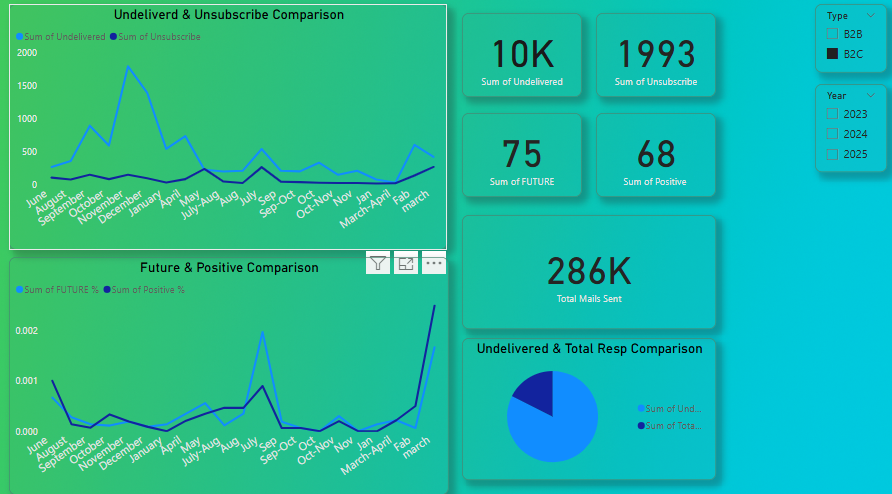

The dashboard page shown, as its layout file describes it:
{"tool":"powerbi","page":{"name":"Comparisons","canvas":[1280,720],"ordinal":3},"visuals":[{"type":"slicer","fields":{"Values":["DATA.Year"]},"box":[1165,123.3,103.5,126.1],"z":0},{"type":"slicer","fields":{"Values":["DATA.Type"]},"box":[1165,8.5,103.5,97.8],"z":1000},{"type":"lineChart","title":"Undeliverd & Unsubscribe Comparison","fields":{"Category":["DATA.Month-Campaign"],"Y":["Sum(DATA.Undelivered)","Sum(DATA.Unsubscribe)"]},"box":[14.2,8.5,626.5,351.5],"z":2000},{"type":"lineChart","title":"Future & Positive Comparison","fields":{"Category":["DATA.Month-Campaign"],"Y":["Sum(DATA.FUTURE %)","Sum(DATA.Positive %)"]},"box":[14.2,369.9,627.9,340.2],"z":3000},{"type":"card","fields":{"Values":["Sum(DATA.Total Mail Sent)"]},"box":[661.9,310.4,362.8,163],"z":4000},{"type":"pieChart","title":"Undelivered & Total Resp Comparison","fields":{"Y":["Sum(DATA.Undelivered)","Sum(DATA.Total Resp)"]},"box":[661.9,486.1,362.8,202.7],"z":5000},{"type":"card","fields":{"Values":["Sum(DATA.FUTURE)"]},"box":[661.9,164.4,171.5,120.5],"z":6000},{"type":"card","fields":{"Values":["Sum(DATA.Positive )"]},"box":[853.2,164.4,171.5,120.5],"z":7000},{"type":"card","fields":{"Values":["Sum(DATA.Undelivered)"]},"box":[661.9,21.3,171.5,120.5],"z":8000},{"type":"card","fields":{"Values":["Sum(DATA.Unsubscribe)"]},"box":[853.2,21.3,171.5,120.5],"z":9000}]}

Visuals, with their boxes in screenshot pixels (x1, y1, x2, y2), scaled from the page's 1280x720 canvas onto the 892x494 screenshot:
slicer - DATA.Year: <bbox>812, 85, 884, 171</bbox>
slicer - DATA.Type: <bbox>812, 6, 884, 73</bbox>
"Undeliverd & Unsubscribe Comparison" lineChart: <bbox>10, 6, 446, 247</bbox>
"Future & Positive Comparison" lineChart: <bbox>10, 254, 447, 487</bbox>
card - Sum(DATA.Total Mail Sent): <bbox>461, 213, 714, 325</bbox>
"Undelivered & Total Resp Comparison" pieChart: <bbox>461, 334, 714, 473</bbox>
card - Sum(DATA.FUTURE): <bbox>461, 113, 581, 195</bbox>
card - Sum(DATA.Positive ): <bbox>595, 113, 714, 195</bbox>
card - Sum(DATA.Undelivered): <bbox>461, 15, 581, 97</bbox>
card - Sum(DATA.Unsubscribe): <bbox>595, 15, 714, 97</bbox>
